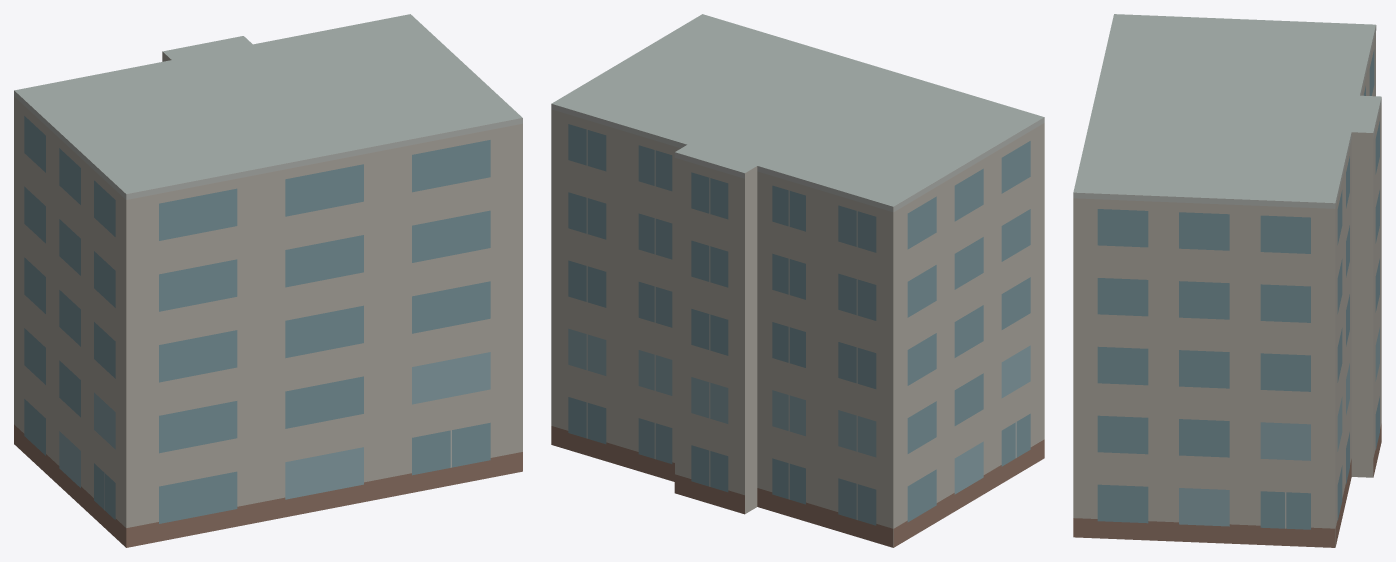
Rendered from survey-upis-32547289.glb.
The picture shows the model from 3 angles, left to right: view 1: azimuth 30°, elevation 25°; view 2: azimuth 150°, elevation 25°; view 3: azimuth 270°, elevation 25°; orthographic projection. The views are drawn at different scales.
Parts seen in each view (by area): view 1: survey-upis-32547289.tmp; view 2: survey-upis-32547289.tmp; view 3: survey-upis-32547289.tmp.
Part boxes in pixels (x1,y1,x2,y2): survey-upis-32547289.tmp: (14,14,522,547); survey-upis-32547289.tmp: (551,14,1044,547); survey-upis-32547289.tmp: (1073,14,1381,547).
Size of the model in its own units: 17.49 by 14.85 by 12.05.
